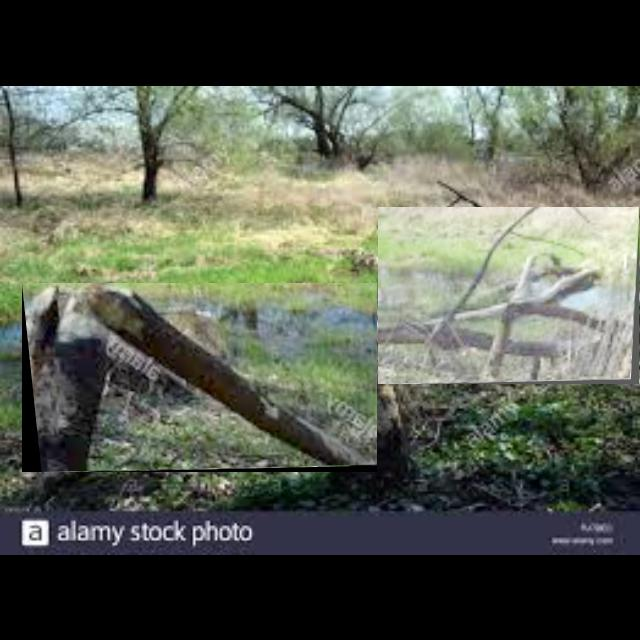Fallen Tree: (22, 283, 378, 473), (378, 207, 640, 385)
